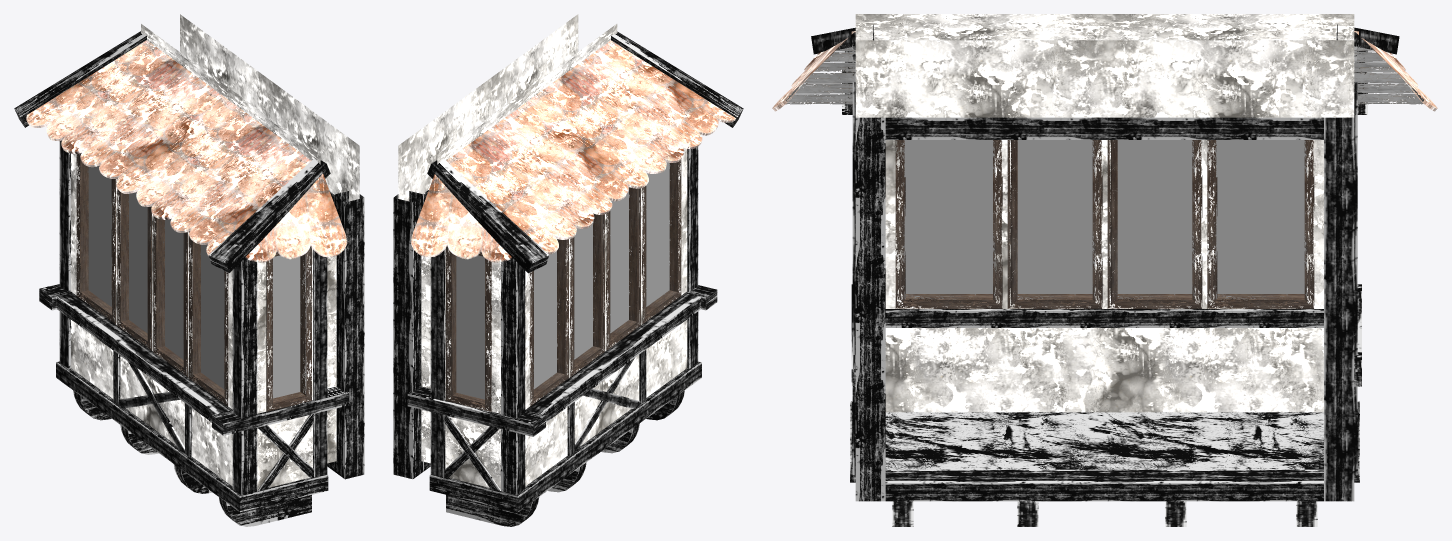
Rendered from SM_wall_A_balcony_4x4_01_01.fbx.
3 renders of one model, left to right at view 1: azimuth 30°, elevation 25°; view 2: azimuth 150°, elevation 25°; view 3: azimuth 270°, elevation 25°, orthographic. The views are drawn at different scales.
Parts seen in each view (by area): view 1: SM_wall_A_balcony_4x4_01_01_LOD0; view 2: SM_wall_A_balcony_4x4_01_01_LOD0; view 3: SM_wall_A_balcony_4x4_01_01_LOD0.
Part boxes in pixels (x1,y1,x2,y2): SM_wall_A_balcony_4x4_01_01_LOD0: (14,14,364,526); SM_wall_A_balcony_4x4_01_01_LOD0: (393,14,743,526); SM_wall_A_balcony_4x4_01_01_LOD0: (772,14,1437,526).
Bounding box in the file's own units: 206 × 534 × 451.
10 materials, 9 textured.
